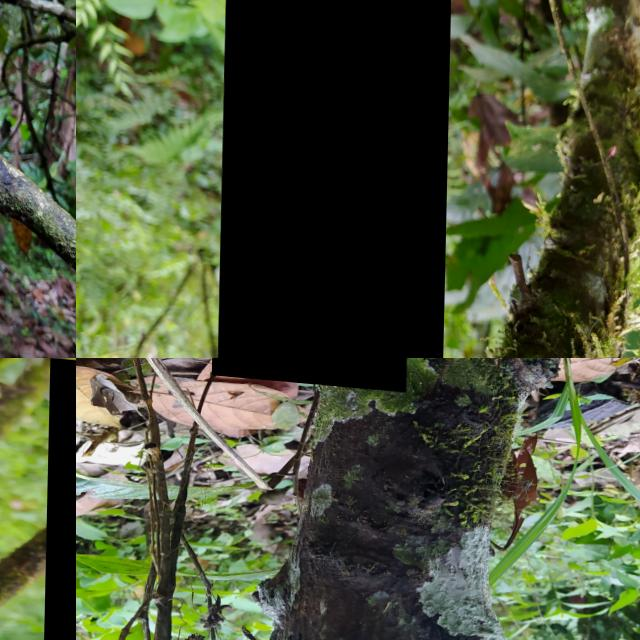Fitoftora: (218, 0, 453, 358), (41, 358, 76, 640)
